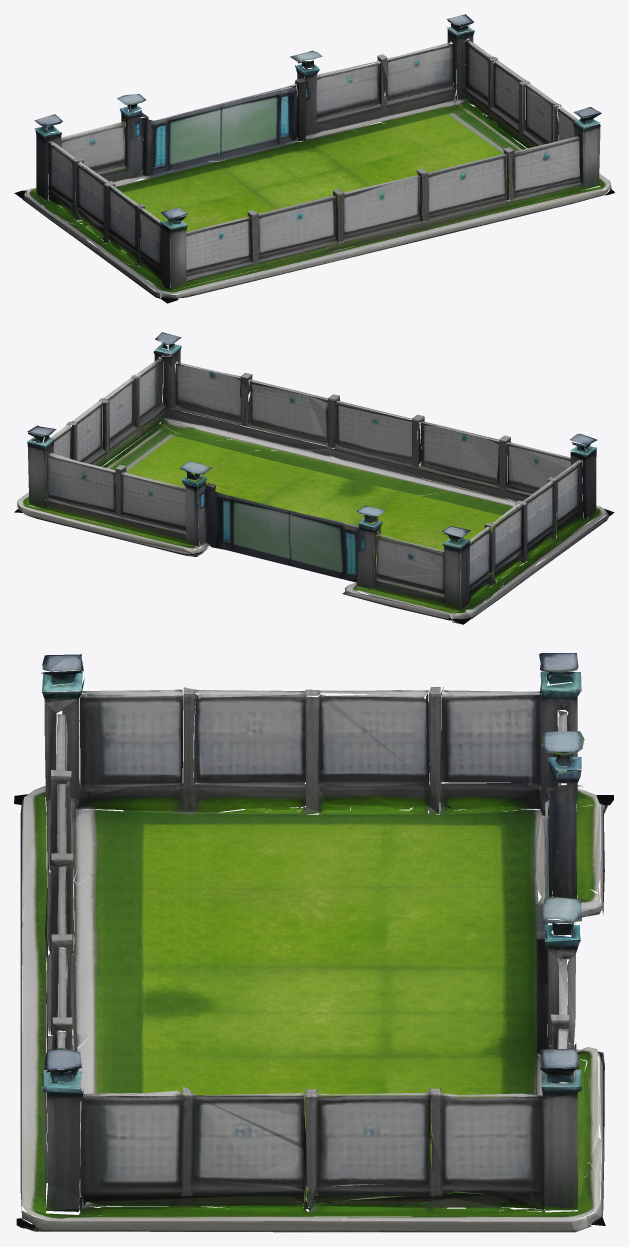
Rendered from school_boundary.glb.
3 views of the same model, one above another, from view 1: azimuth 30°, elevation 25°; view 2: azimuth 150°, elevation 25°; view 3: azimuth 270°, elevation 25° (orthographic). The views are drawn at different scales.
Visible parts, largest first — view 1: world.028; view 2: world.028; view 3: world.028.
Boxes of the visible parts, left/top/right/bottom form: world.028: left=14, top=14, right=614, bottom=303; world.028: left=14, top=332, right=614, bottom=624; world.028: left=14, top=653, right=613, bottom=1232.
Bounding box in the file's own units: 1 × 0.1746 × 0.5799.
1 material, 1 textured.
